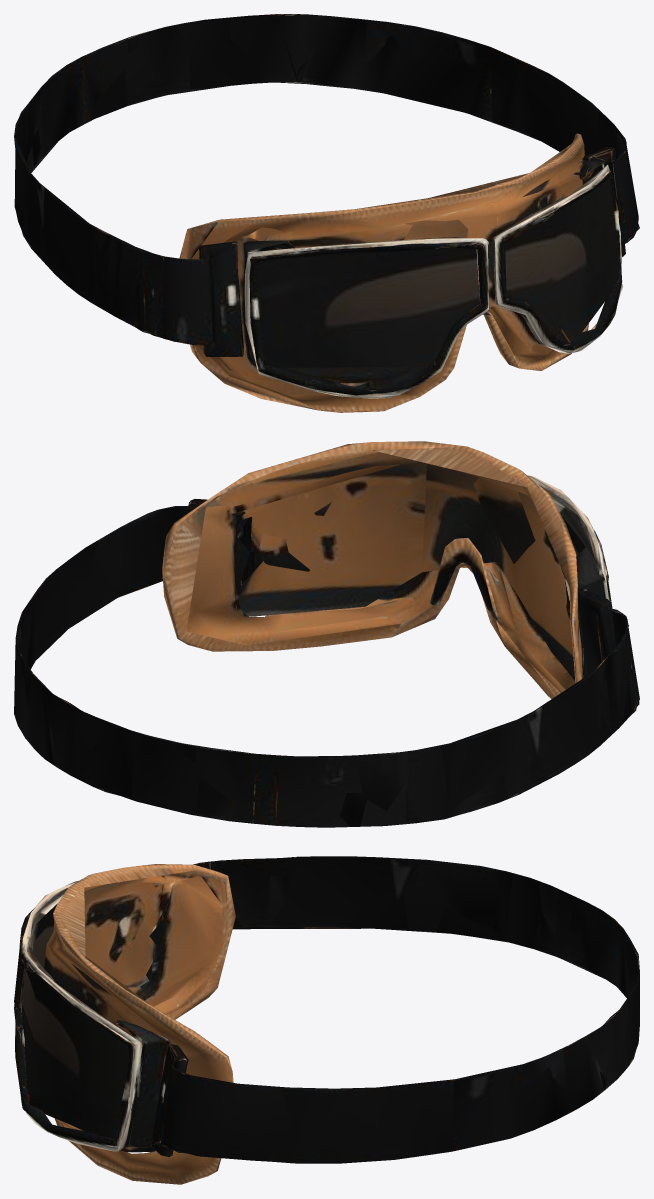
File: gogga.glb
The picture shows the model from 3 angles, top to bottom: view 1: azimuth 30°, elevation 25°; view 2: azimuth 150°, elevation 25°; view 3: azimuth 270°, elevation 25°; orthographic projection. The views are drawn at different scales.
Parts seen in each view (by area): view 1: gogga; view 2: gogga; view 3: gogga.
Boxes of the visible parts, x1=… form: gogga: x1=14, y1=14, x2=639, y2=412; gogga: x1=14, y1=441, x2=639, y2=827; gogga: x1=14, y1=856, x2=639, y2=1184.
Bounding box in the file's own units: 0.1705 × 0.0668 × 0.19.
1 material, 1 textured.
